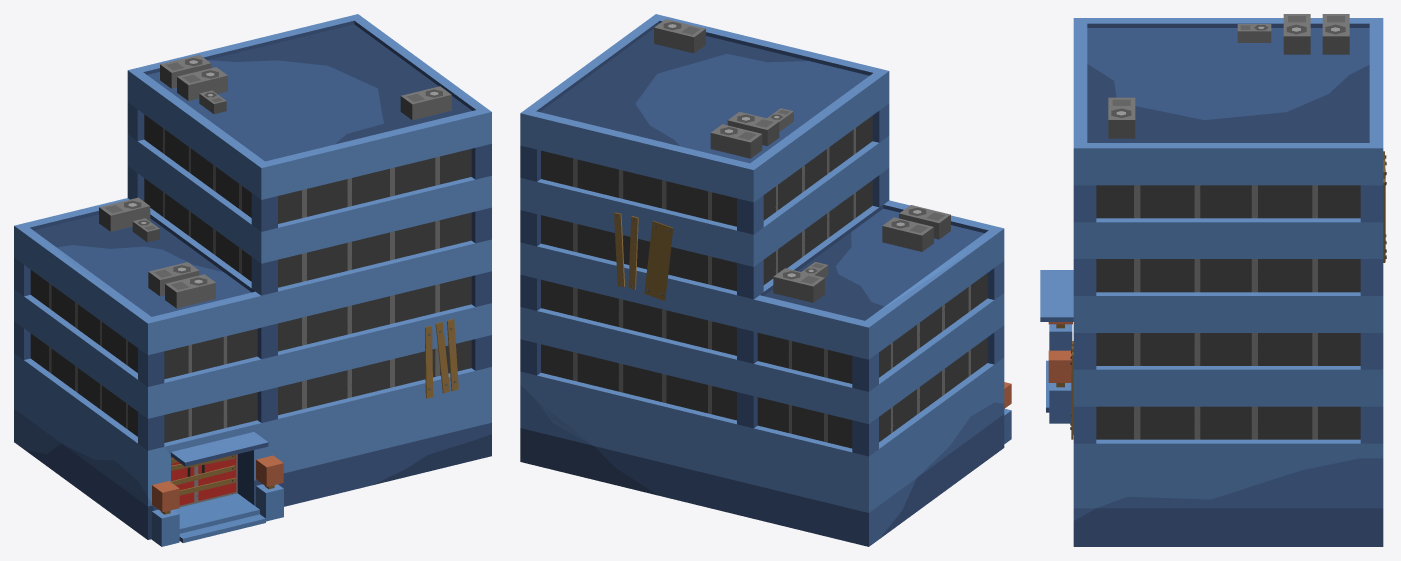
The model's file is SA_Bld_OfficeBlue_04.glb.
The picture shows the model from 3 angles, left to right: view 1: azimuth 30°, elevation 25°; view 2: azimuth 150°, elevation 25°; view 3: azimuth 270°, elevation 25°; orthographic projection. The views are drawn at different scales.
Parts seen in each view (by area): view 1: SA_Bld_OfficeBlue_04; view 2: SA_Bld_OfficeBlue_04; view 3: SA_Bld_OfficeBlue_04.
Boxes of the visible parts, x1,y1,x2,y2 form: SA_Bld_OfficeBlue_04: [14, 14, 491, 546]; SA_Bld_OfficeBlue_04: [520, 14, 1011, 546]; SA_Bld_OfficeBlue_04: [1040, 14, 1386, 546].
Size of the model in its own units: 8.54 by 8.46 by 6.43.
1 material, 1 textured.
